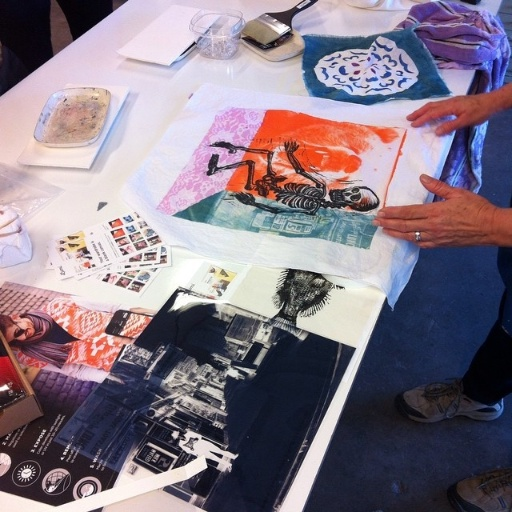hand: (380, 158, 496, 253), (403, 94, 491, 137)
